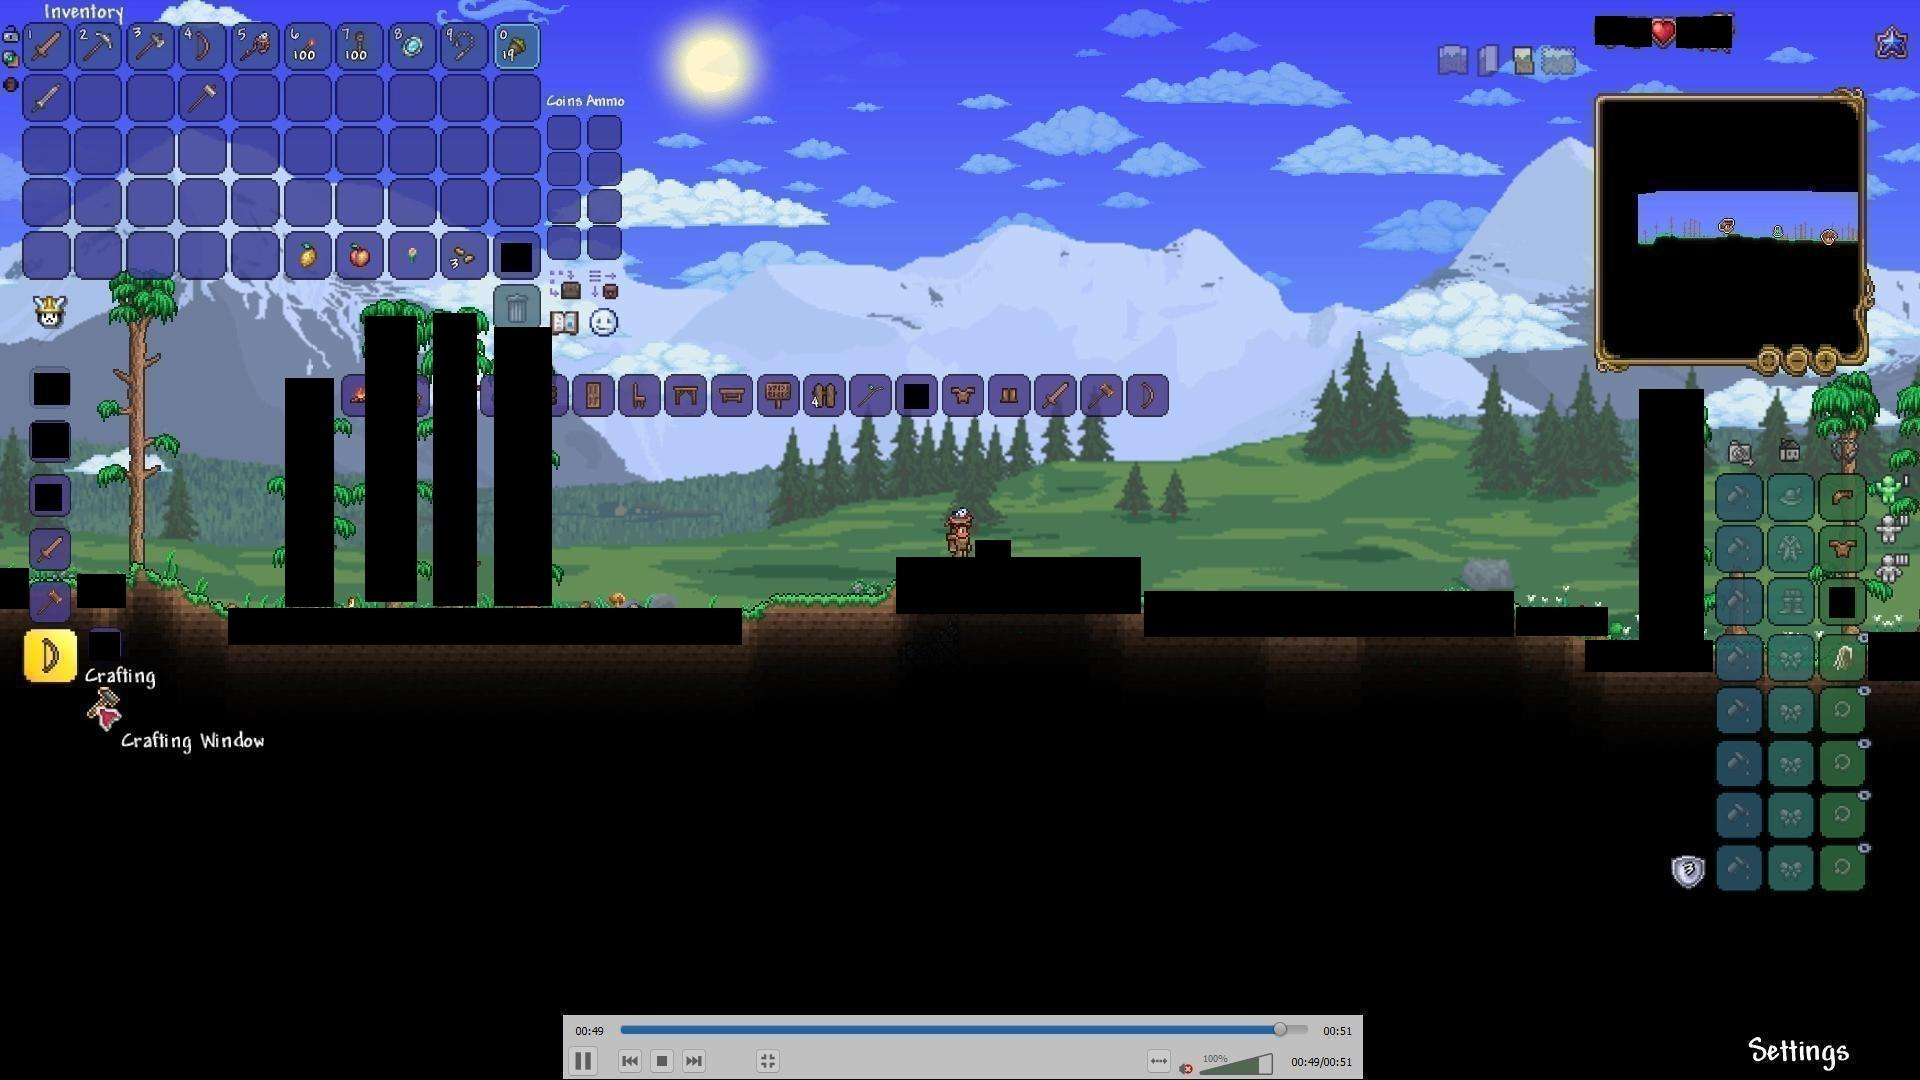breastplate: (949, 384, 980, 406), (1826, 537, 1857, 559)
dirt: (756, 583, 893, 622), (136, 567, 216, 613)
heart: (1648, 18, 1676, 47)
helmet: (1826, 481, 1862, 512)
legs: (996, 382, 1021, 407)
tree: (109, 285, 165, 564)
workbench: (715, 380, 746, 410)
